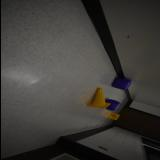cone: (86, 88, 110, 110), (107, 112, 119, 120)
cube: (110, 77, 130, 90), (104, 99, 120, 111)
